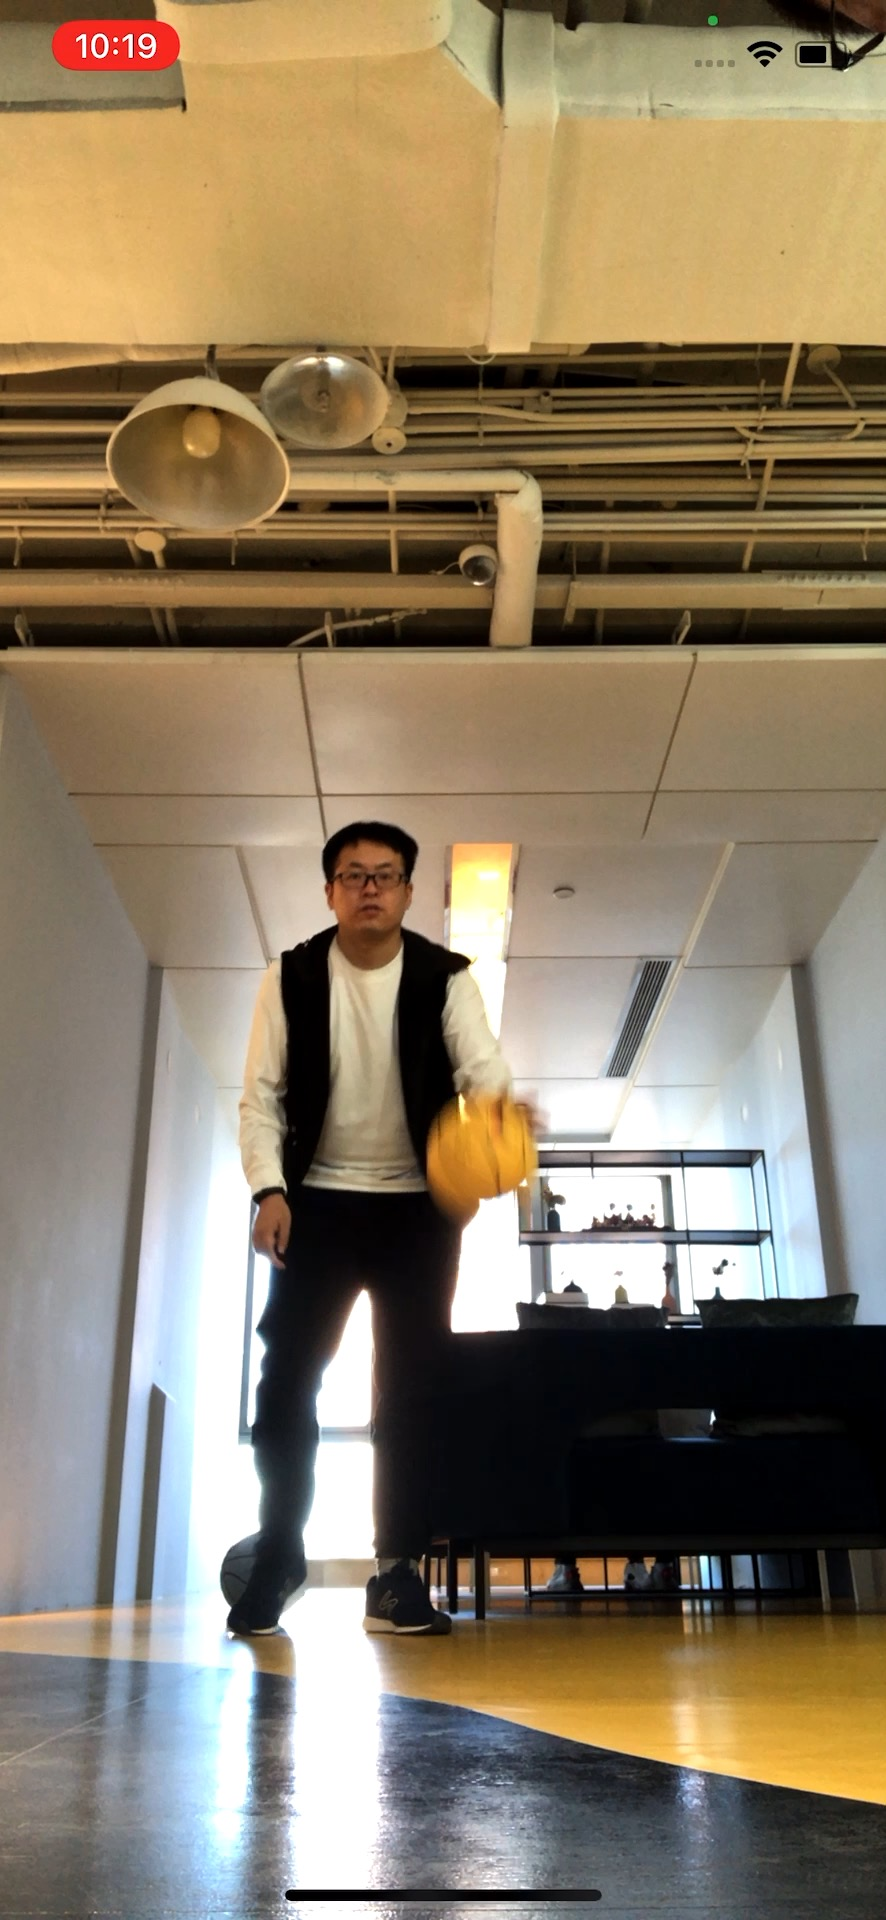ball: (423, 1102, 549, 1221)
